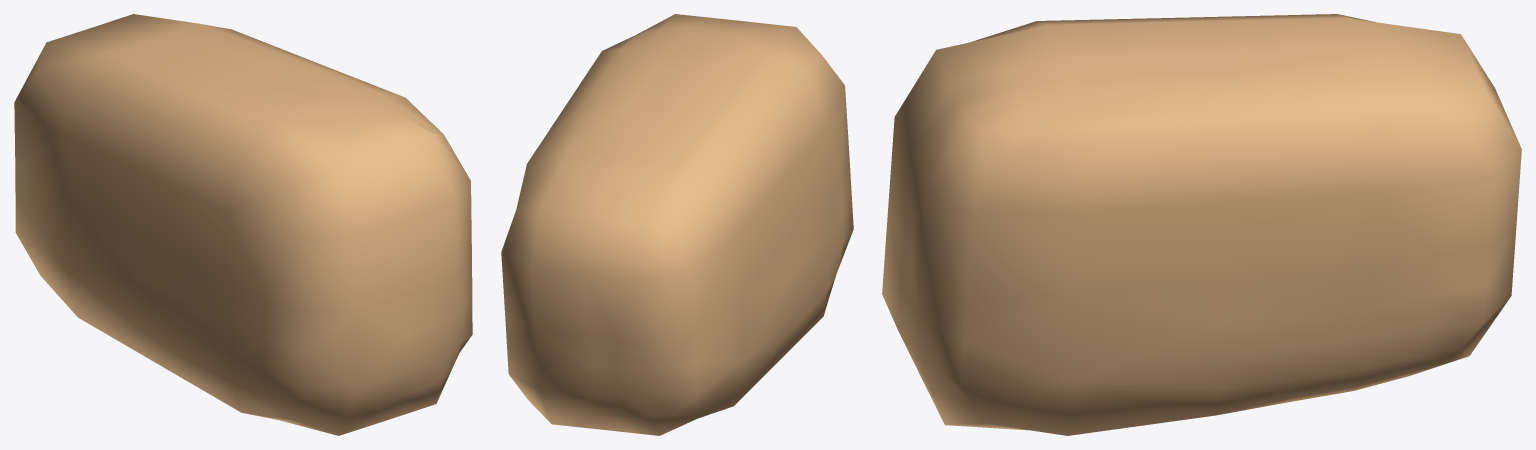
Rendered from ring_01_r.dae.
The picture shows the model from 3 angles, left to right: view 1: azimuth 30°, elevation 25°; view 2: azimuth 150°, elevation 25°; view 3: azimuth 270°, elevation 25°; orthographic projection. The views are drawn at different scales.
Visible parts, largest first — view 1: skin_geo_ring_01_r; view 2: skin_geo_ring_01_r; view 3: skin_geo_ring_01_r.
Boxes of the visible parts, bbox=[...] form: skin_geo_ring_01_r: bbox=[14, 14, 472, 435]; skin_geo_ring_01_r: bbox=[501, 14, 853, 435]; skin_geo_ring_01_r: bbox=[882, 14, 1521, 435].
Bounding box in the file's own units: 0.0238 × 0.0426 × 0.0256.
